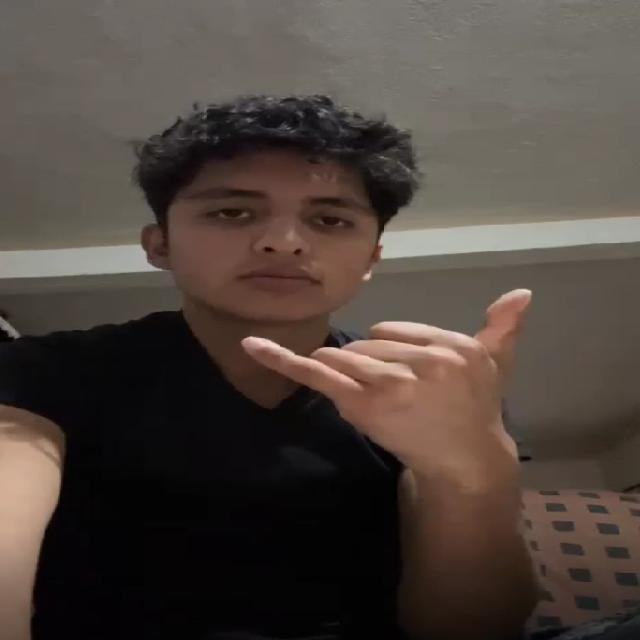Y: (220, 290, 586, 517)
